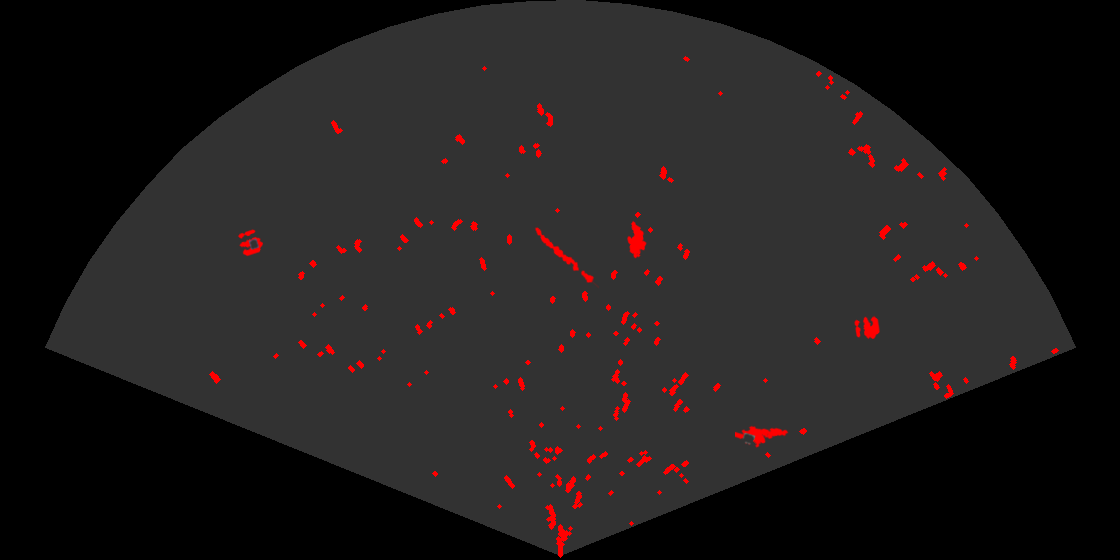AUV: (626, 219, 648, 260)
ball: (236, 228, 265, 258), (853, 314, 881, 341)
chain: (533, 226, 599, 290)
frogman: (735, 424, 789, 449)
